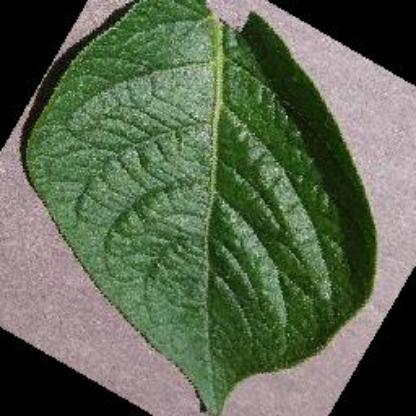Healthy-plant: (25, 0, 378, 410)
